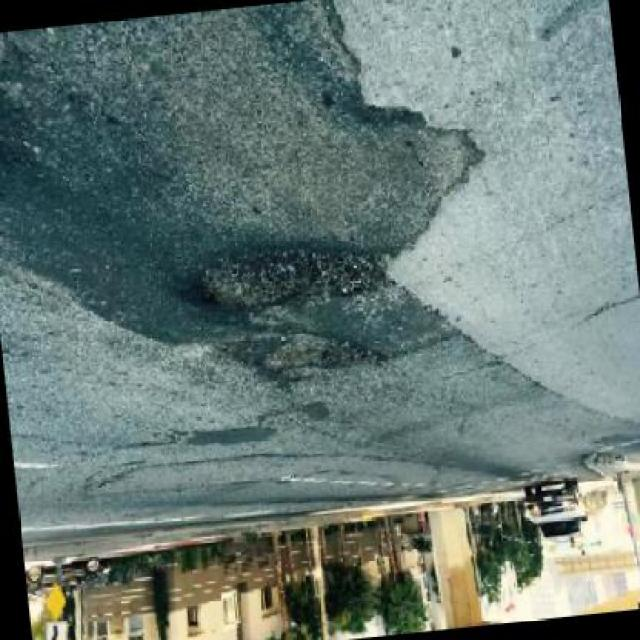pothole1: (190, 228, 398, 322), (256, 324, 395, 384)
